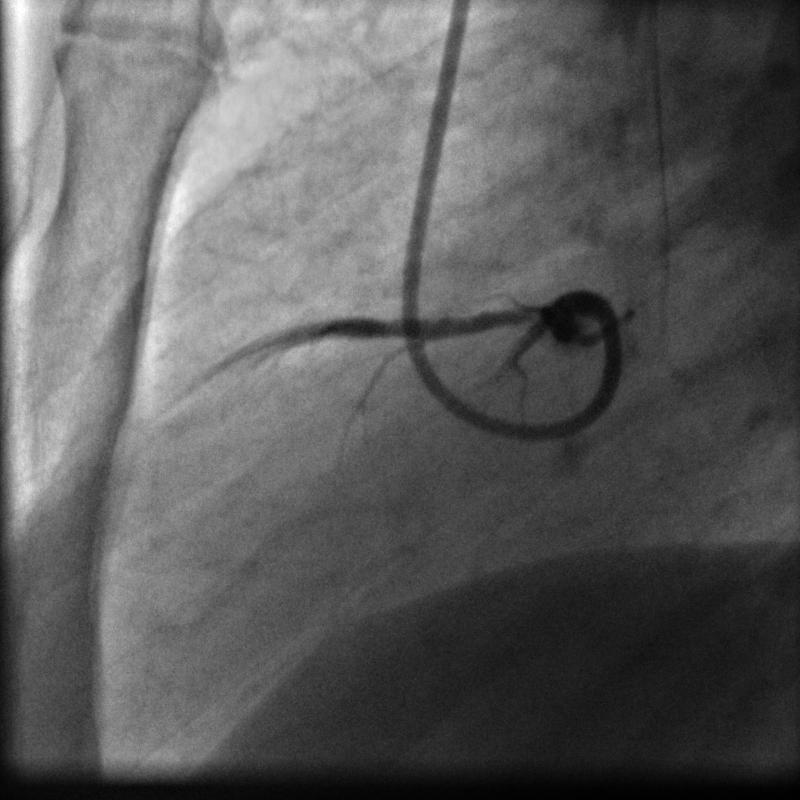Stenosis: (376, 316, 400, 339)
